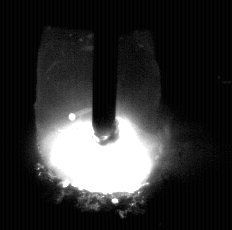arame: (93, 0, 117, 145)
poca: (35, 0, 170, 230)
